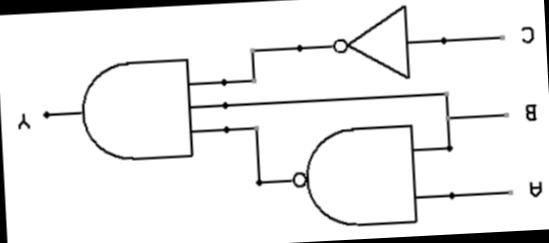nand: (280, 116, 424, 234)
not: (323, 0, 417, 89)
